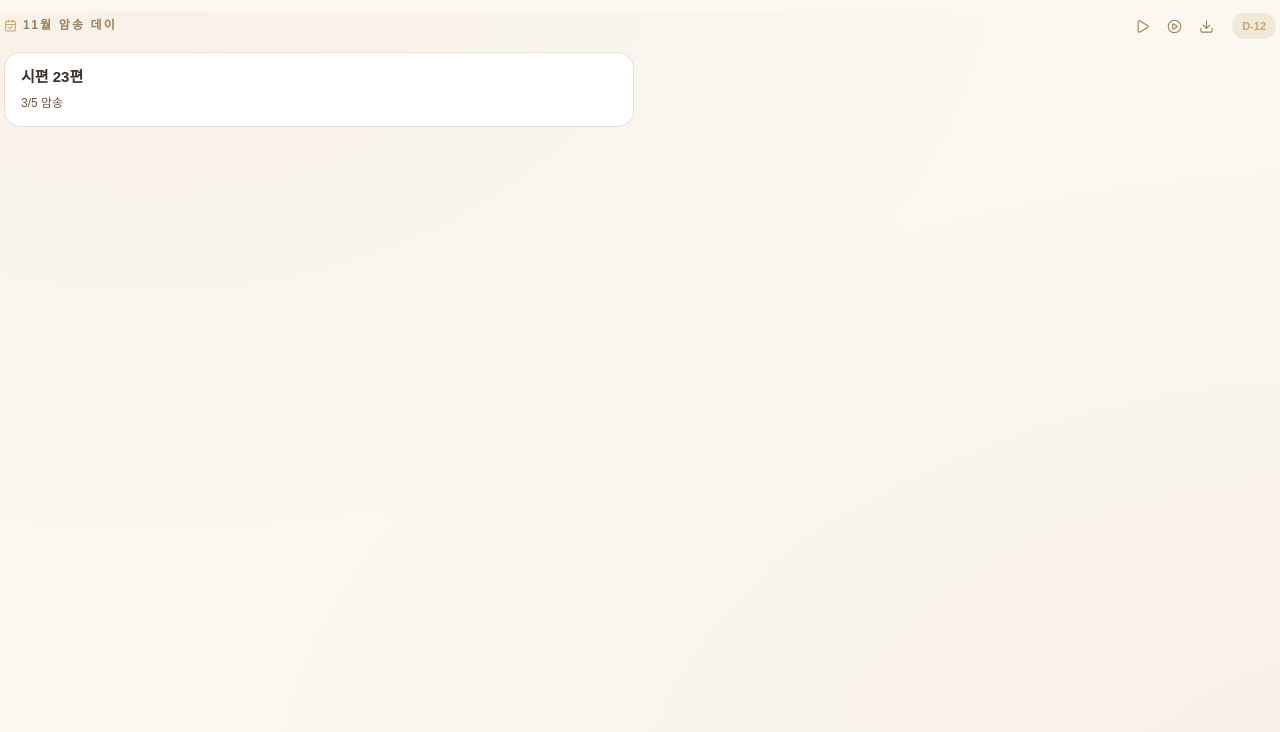
EventSection — 전체 듣기 › tapping it speaks and raises the bar
Step 1. Click the button named "11월 암송 데이 전체 듣기" → (1142, 26), box [1128,12,1156,40]
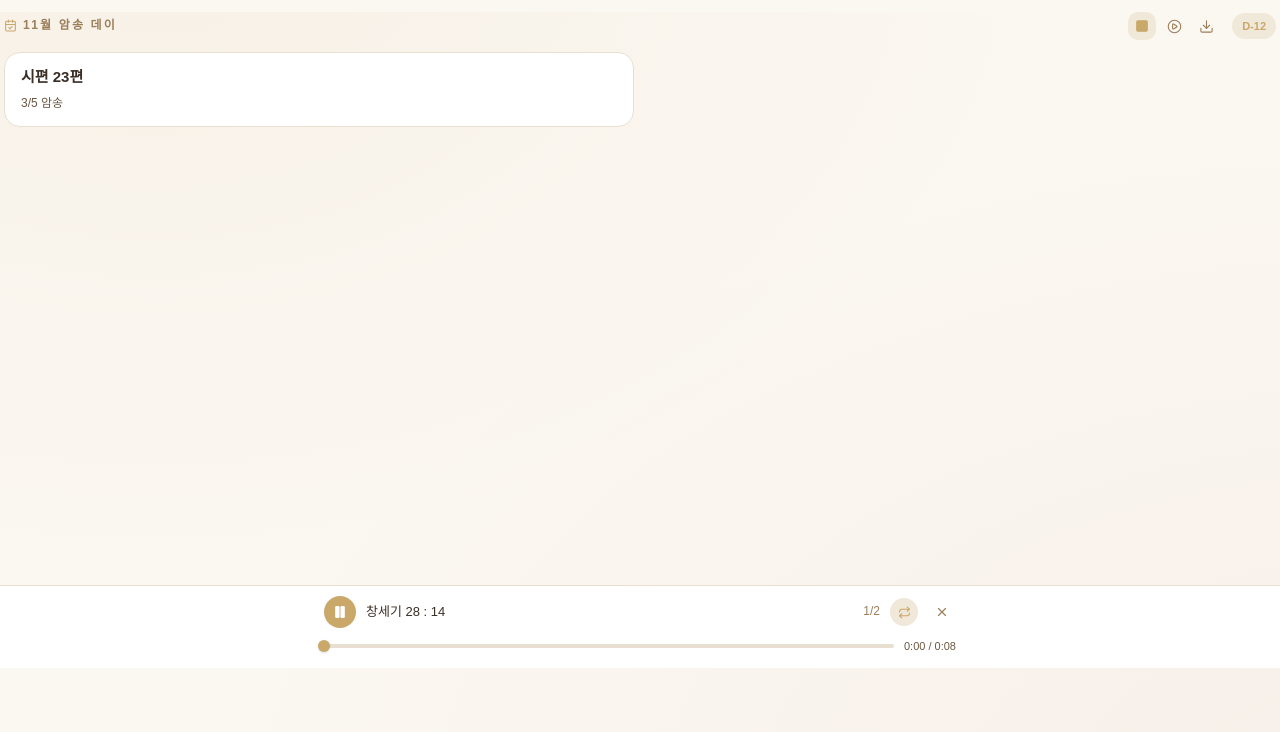
Check: the button named "재생 닫기" is shown, box [928,598,956,626]
Check: the text "창세기 28 : 14" is shown, box [366,604,445,619]
Check: the text "1/2" is shown, box [863,602,880,622]
